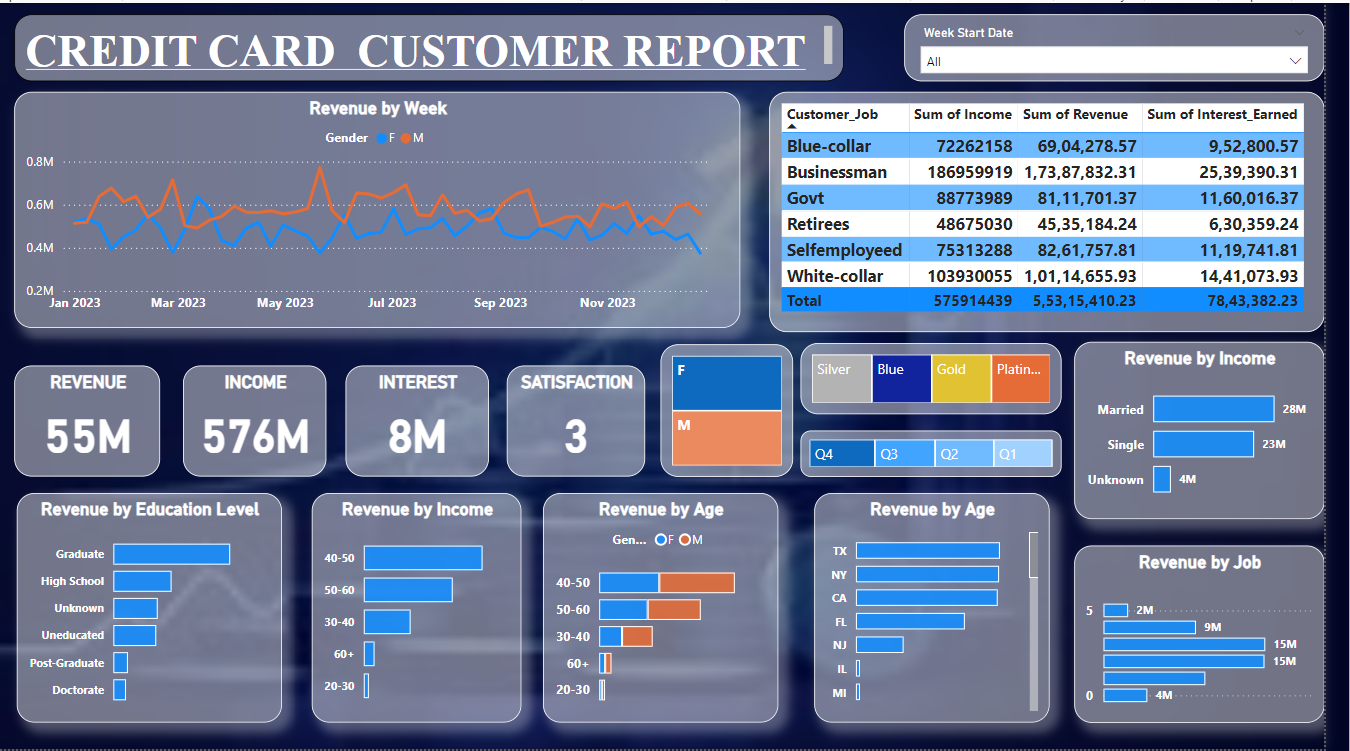

The page's visual inventory and layout, read from the dashboard file:
{"tool":"powerbi","page":{"name":"cc_customer","canvas":[1280,720],"ordinal":1},"visuals":[{"type":"textbox","box":[15.7,10.9,801.1,65.1],"z":0},{"type":"barChart","title":"Revenue by Education Level","fields":{"Y":["Sum(credit_card.Revenue)"],"Category":["customer.Education_Level"]},"box":[18.1,472.9,255.8,222],"z":1000},{"type":"tableEx","fields":{"Values":["customer.Customer_Job","Sum(customer.Income)","Sum(credit_card.Revenue)","Sum(credit_card.Interest_Earned)"]},"box":[744.4,85.7,535.7,231.6],"z":2000},{"type":"card","title":"REVENUE","fields":{"Values":["Sum(credit_card.Revenue)"]},"box":[15.7,349.9,141.2,107.4],"z":3000},{"type":"card","title":"INTEREST","fields":{"Values":["Sum(credit_card.Interest_Earned)"]},"box":[335.4,349.9,138.7,107.4],"z":4000},{"type":"treemap","fields":{"Group":["credit_card.Qtr"],"Values":["Avg(credit_card.Client_Num)"]},"box":[774.5,412.6,252.1,44.6],"z":5000},{"type":"card","title":"INCOME","fields":{"Values":["Sum(customer.Income)"]},"box":[178.6,349.9,138.7,107.4],"z":6000},{"type":"card","title":"SATISFACTION","fields":{"Values":["Avg(customer.Cust_Satisfaction_Score)"]},"box":[491,349.9,133.9,107.4],"z":7000},{"type":"slicer","fields":{"Values":["credit_card.Week_Start_Date"]},"box":[874.7,10.9,405.4,65.1],"z":8000},{"type":"treemap","fields":{"Group":["credit_card.Card_Category"],"Values":["Avg(credit_card.Client_Num)"]},"box":[774.5,328.2,252.1,68.8],"z":9000},{"type":"treemap","fields":{"Group":["customer.Gender"],"Values":["Avg(credit_card.Client_Num)"]},"box":[639.4,329.4,127.9,127.9],"z":10000},{"type":"lineChart","title":"Revenue by Week","fields":{"Series":["customer.Gender"],"Y":["Sum(credit_card.Revenue)"],"Category":["credit_card.Week_Start_Date.Variation.Date Hierarchy.Year","credit_card.Week_Start_Date.Variation.Date Hierarchy.Month","credit_card.Week_Start_Date.Variation.Date Hierarchy.Day"]},"box":[15.7,85.7,700.9,228],"z":11000},{"type":"barChart","title":"Revenue by Income","fields":{"Y":["Sum(credit_card.Revenue)"],"Category":["customer.AgeGroup"]},"box":[302.8,472.9,202.7,222],"z":12000},{"type":"barChart","title":"Revenue by Age","fields":{"Y":["Sum(credit_card.Revenue)"],"Category":["customer.AgeGroup"],"Series":["customer.Gender"]},"box":[526,472.9,226.8,222],"z":13000},{"type":"barChart","title":"Revenue by Job","fields":{"Y":["Sum(credit_card.Revenue)"],"Category":["customer.Dependent_Count","customer.Customer_Job"]},"box":[1038.7,523.6,241.3,171.3],"z":14000},{"type":"barChart","title":"Revenue by Age","fields":{"Y":["Sum(credit_card.Revenue)"],"Category":["customer.state_cd"]},"box":[787.8,472.9,226.8,222],"z":15000},{"type":"barChart","title":"Revenue by Income","fields":{"Y":["Sum(credit_card.Revenue)"],"Category":["customer.Marital_Status"]},"box":[1038.7,326.9,241.3,171.3],"z":16000}]}

Visuals, with their boxes in screenshot pixels (x1, y1, x2, y2), scaled from the page's 1280x720 canvas onto the 1350x751 screenshot:
textbox: <box>17,11,861,79</box>
"Revenue by Education Level" barChart: <box>19,493,289,725</box>
tableEx - customer.Customer_Job x Sum(customer.Income): <box>785,89,1349,331</box>
"REVENUE" card: <box>17,365,165,477</box>
"INTEREST" card: <box>354,365,500,477</box>
treemap - credit_card.Qtr x Avg(credit_card.Client_Num): <box>817,430,1083,477</box>
"INCOME" card: <box>188,365,335,477</box>
"SATISFACTION" card: <box>518,365,659,477</box>
slicer - credit_card.Week_Start_Date: <box>923,11,1349,79</box>
treemap - credit_card.Card_Category x Avg(credit_card.Client_Num): <box>817,342,1083,414</box>
treemap - customer.Gender x Avg(credit_card.Client_Num): <box>674,344,809,477</box>
"Revenue by Week" lineChart: <box>17,89,756,327</box>
"Revenue by Income" barChart: <box>319,493,533,725</box>
"Revenue by Age" barChart: <box>555,493,794,725</box>
"Revenue by Job" barChart: <box>1096,546,1349,725</box>
"Revenue by Age" barChart: <box>831,493,1070,725</box>
"Revenue by Income" barChart: <box>1096,341,1349,520</box>
